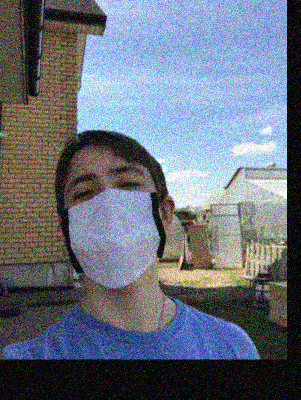with_mask: (62, 162, 167, 289)
